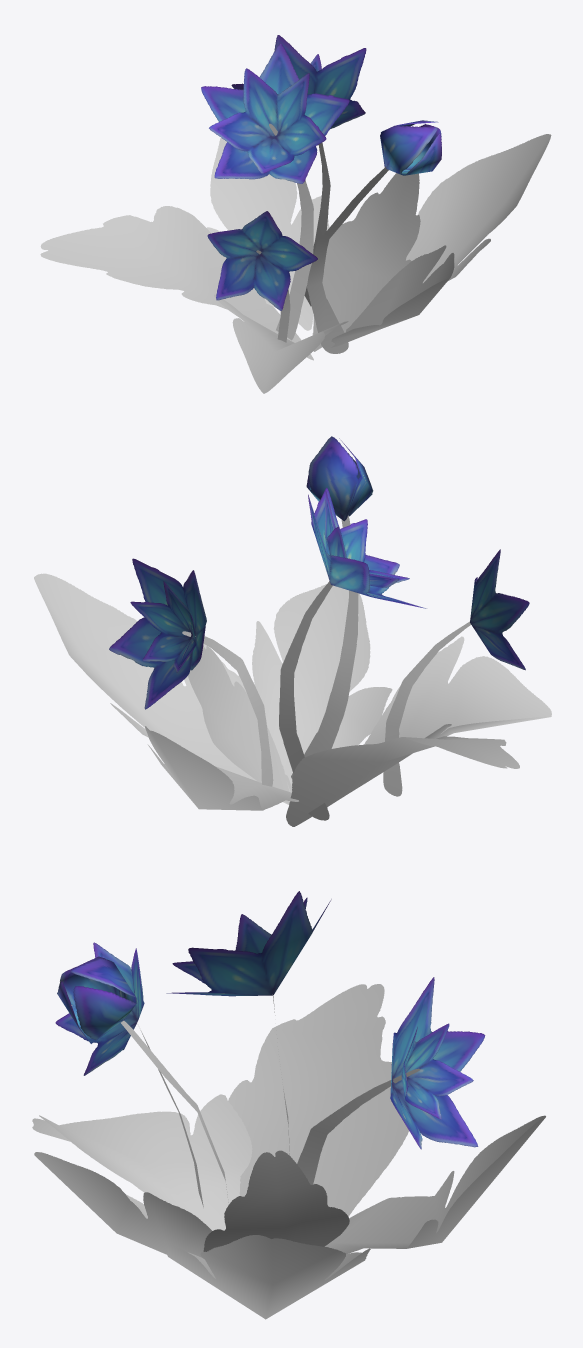
Rendered from geo_flower_01.fbx.
3 renders of one model, top to bottom at view 1: azimuth 30°, elevation 25°; view 2: azimuth 150°, elevation 25°; view 3: azimuth 270°, elevation 25°, orthographic. The views are drawn at different scales.
Visible parts, largest first — view 1: Plane.013; view 2: Plane.013; view 3: Plane.013.
Part boxes in pixels (left/top/right/bottom): Plane.013: left=40, top=35, right=551, bottom=393; Plane.013: left=34, top=436, right=551, bottom=826; Plane.013: left=32, top=891, right=545, bottom=1319.
Size of the model in its own units: 3.47 by 2.18 by 2.56.
